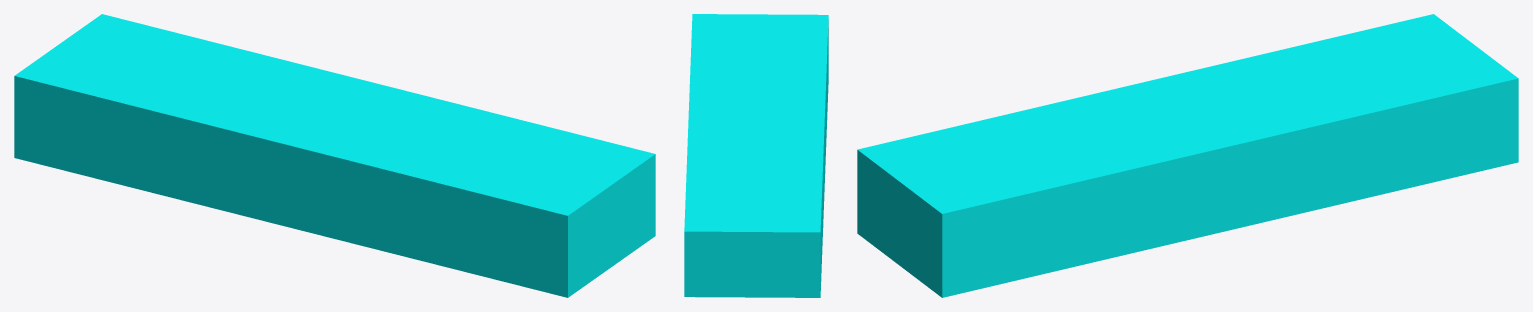
Rendered from original-4.obj.
3 renders of one model, left to right at view 1: azimuth 30°, elevation 25°; view 2: azimuth 150°, elevation 25°; view 3: azimuth 270°, elevation 25°, orthographic. The views are drawn at different scales.
Parts seen in each view (by area): view 1: mesh7/mesh7-geometry#mesh7-geometry; view 2: mesh7/mesh7-geometry#mesh7-geometry; view 3: mesh7/mesh7-geometry#mesh7-geometry.
Part boxes in pixels (box(x1,y1,x2,y2)): mesh7/mesh7-geometry#mesh7-geometry: box(14, 14, 655, 297); mesh7/mesh7-geometry#mesh7-geometry: box(684, 14, 828, 297); mesh7/mesh7-geometry#mesh7-geometry: box(857, 14, 1518, 297).
Bounding box in the file's own units: 0.0663 × 0.013 × 0.0927.
